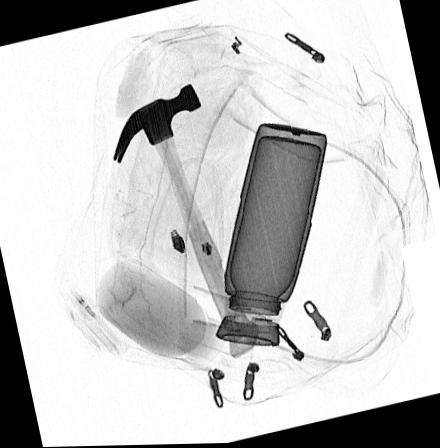Hammer: (110, 84, 259, 359)
